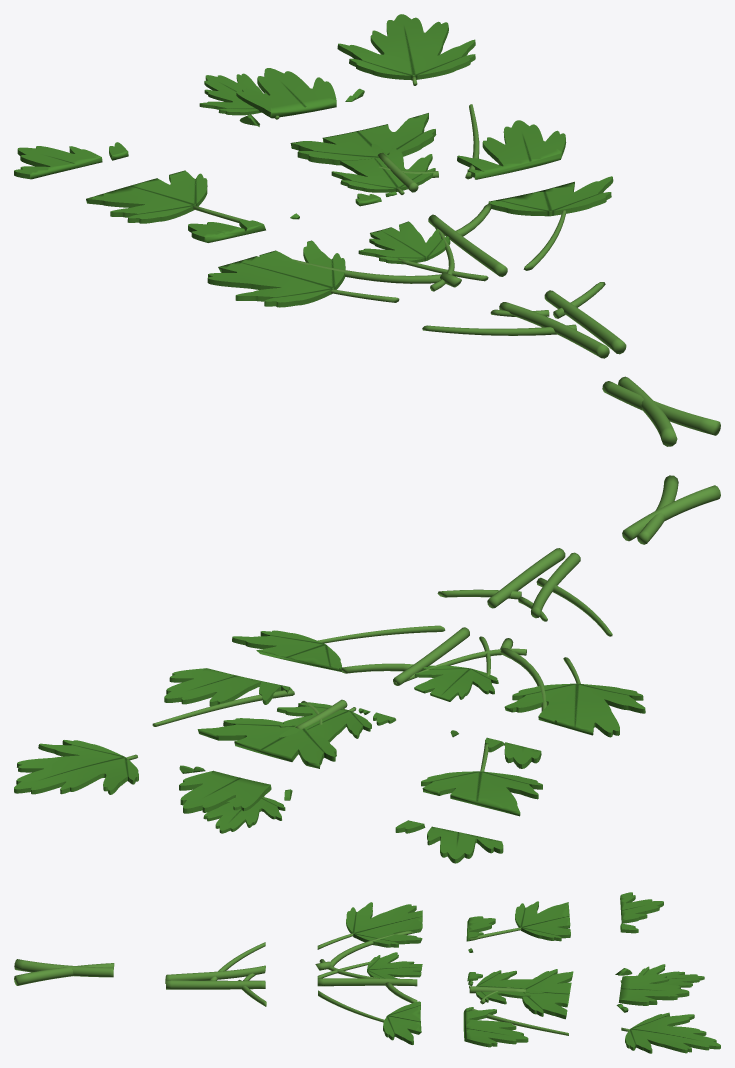
Rendered from mata de cilantro cortada.fbx.
3 views of the same model, one above another, from view 1: azimuth 30°, elevation 25°; view 2: azimuth 150°, elevation 25°; view 3: azimuth 270°, elevation 25° (orthographic). The views are drawn at different scales.
Parts seen in each view (by area): view 1: Cilantro_Picado_4, Cilantro_Picado_3, Cilantro_Picado_5, Cilantro_Picado_2, Cilantro_Picado_1; view 2: Cilantro_Picado_4, Cilantro_Picado_3, Cilantro_Picado_5, Cilantro_Picado_2, Cilantro_Picado_1; view 3: Cilantro_Picado_4, Cilantro_Picado_3, Cilantro_Picado_5, Cilantro_Picado_2, Cilantro_Picado_1.
Part boxes in pixels (<box>): Cilantro_Picado_4: <box>86,104,566,242</box>; Cilantro_Picado_3: <box>207,176,613,307</box>; Cilantro_Picado_5: <box>14,14,475,179</box>; Cilantro_Picado_2: <box>422,282,626,358</box>; Cilantro_Picado_1: <box>602,376,720,446</box>; Cilantro_Picado_4: <box>152,668,542,816</box>; Cilantro_Picado_3: <box>232,625,645,737</box>; Cilantro_Picado_5: <box>14,740,503,863</box>; Cilantro_Picado_2: <box>437,548,612,636</box>; Cilantro_Picado_1: <box>622,475,720,544</box>; Cilantro_Picado_4: <box>463,901,573,1047</box>; Cilantro_Picado_3: <box>315,902,422,1044</box>; Cilantro_Picado_5: <box>615,892,720,1053</box>; Cilantro_Picado_2: <box>165,942,266,1006</box>; Cilantro_Picado_1: <box>14,959,114,985</box>.
Bounding box in the file's own units: 29.37 × 0.8279 × 54.13.
2 materials, 2 textured.
